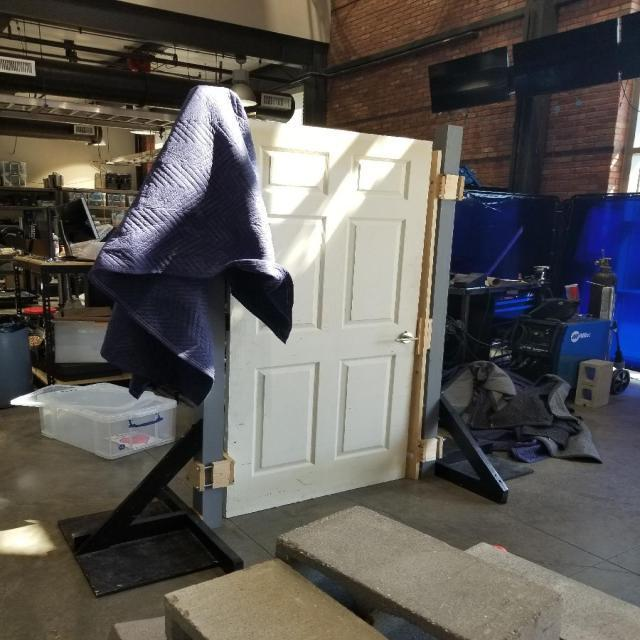door: (220, 114, 438, 526), (386, 328, 418, 348)
